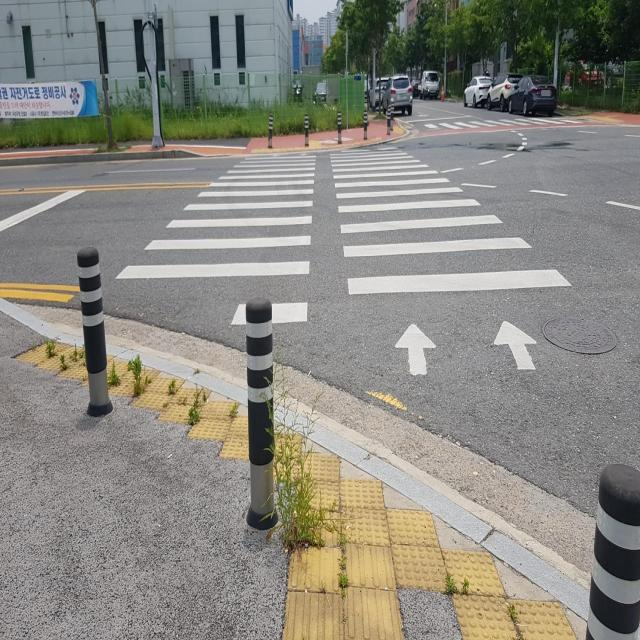횡단보도: (115, 144, 572, 378), (404, 116, 589, 132)
